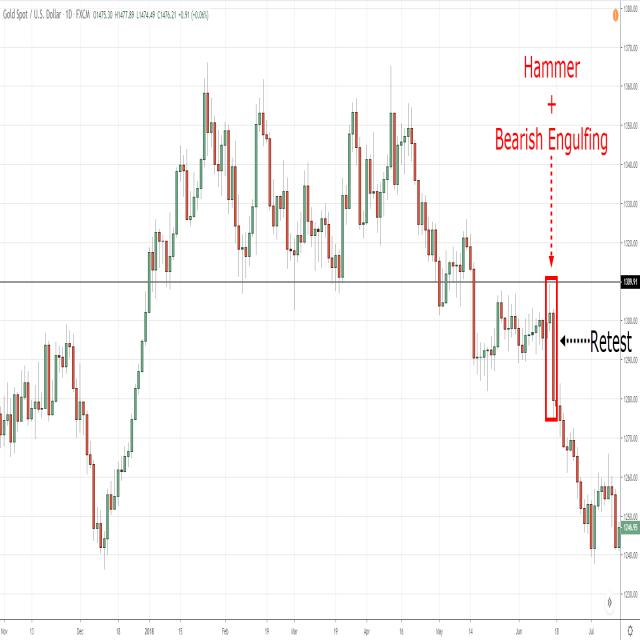Triple-Top: (195, 70, 366, 288)
